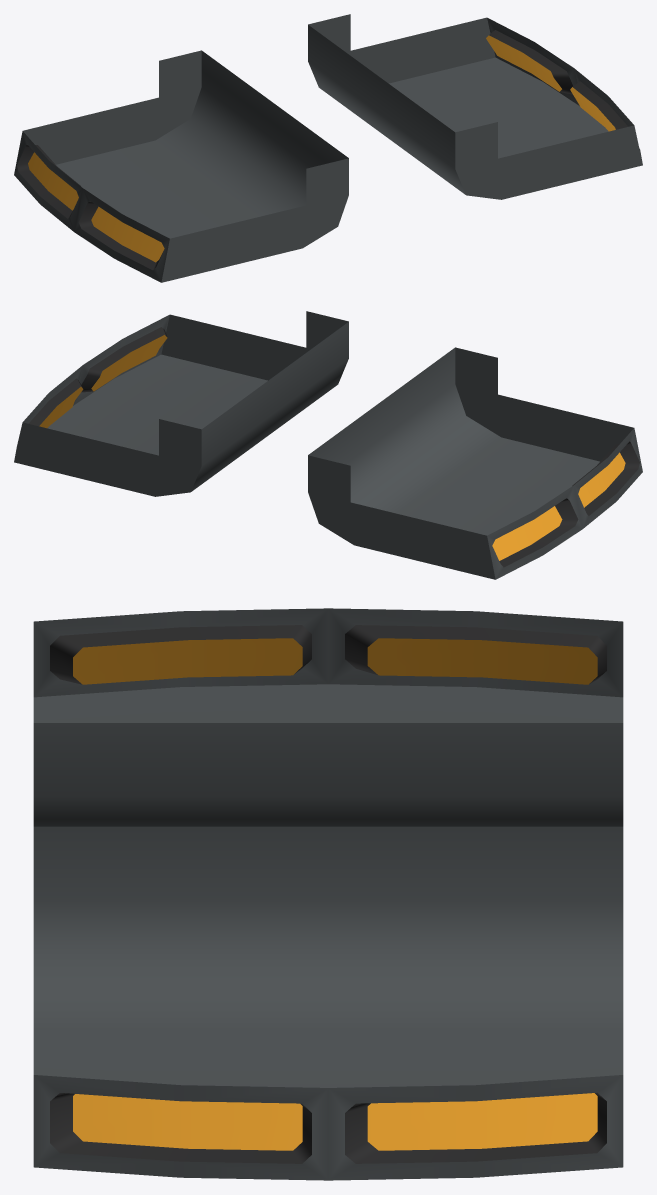
Rendered from Car_05_Turbine.fbx.
3 renders of one model, top to bottom at view 1: azimuth 30°, elevation 25°; view 2: azimuth 150°, elevation 25°; view 3: azimuth 270°, elevation 25°, orthographic. The views are drawn at different scales.
Visible parts, largest first — view 1: Car_05_Turbine; view 2: Car_05_Turbine; view 3: Car_05_Turbine.
Boxes of the visible parts, x1=… form: Car_05_Turbine: x1=14, y1=14, x2=642, y2=282; Car_05_Turbine: x1=14, y1=311, x2=642, y2=579; Car_05_Turbine: x1=33, y1=608, x2=623, y2=1180.
Size of the model in its own units: 198 by 99.44 by 29.34.
